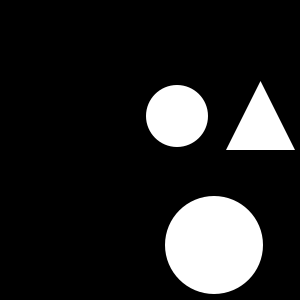rectangle: (165, 196, 263, 294), (146, 85, 208, 147)
triangle: (226, 81, 295, 150)
